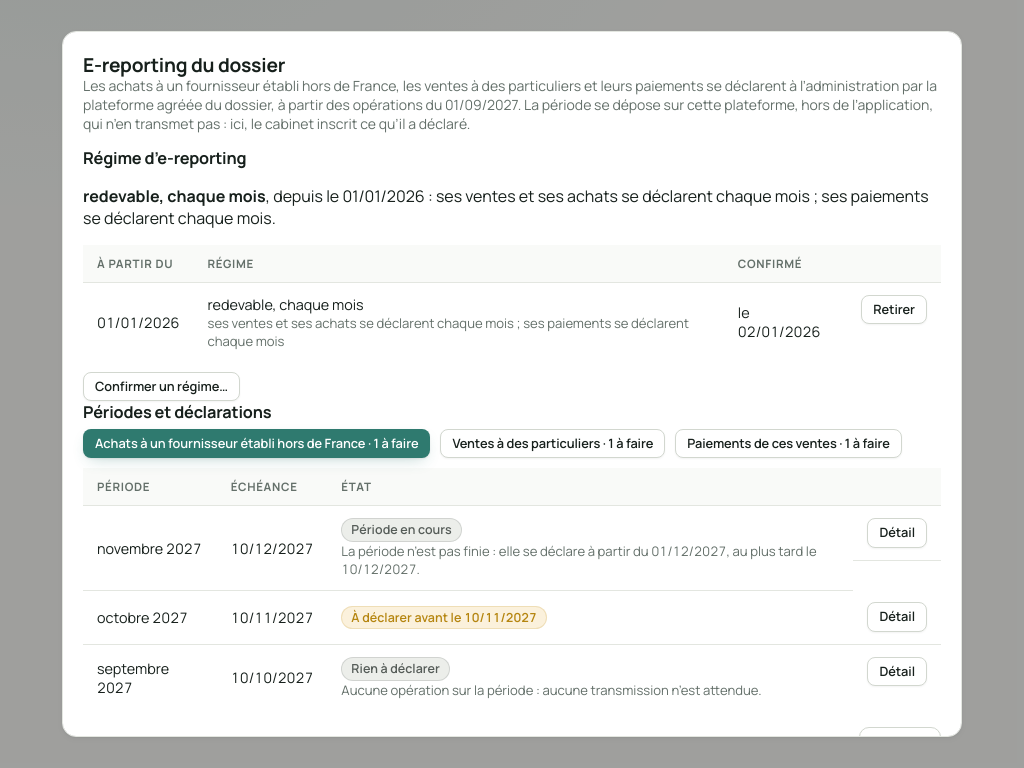
le régime › confirmer un régime › s’ouvre sur le statut de l’onglet TVA — SAUF le jour, que le cabinet saisit
Click the button "Confirmer un régime…". click: (162, 386)
box: [83,372,240,401]
(page scrolled)
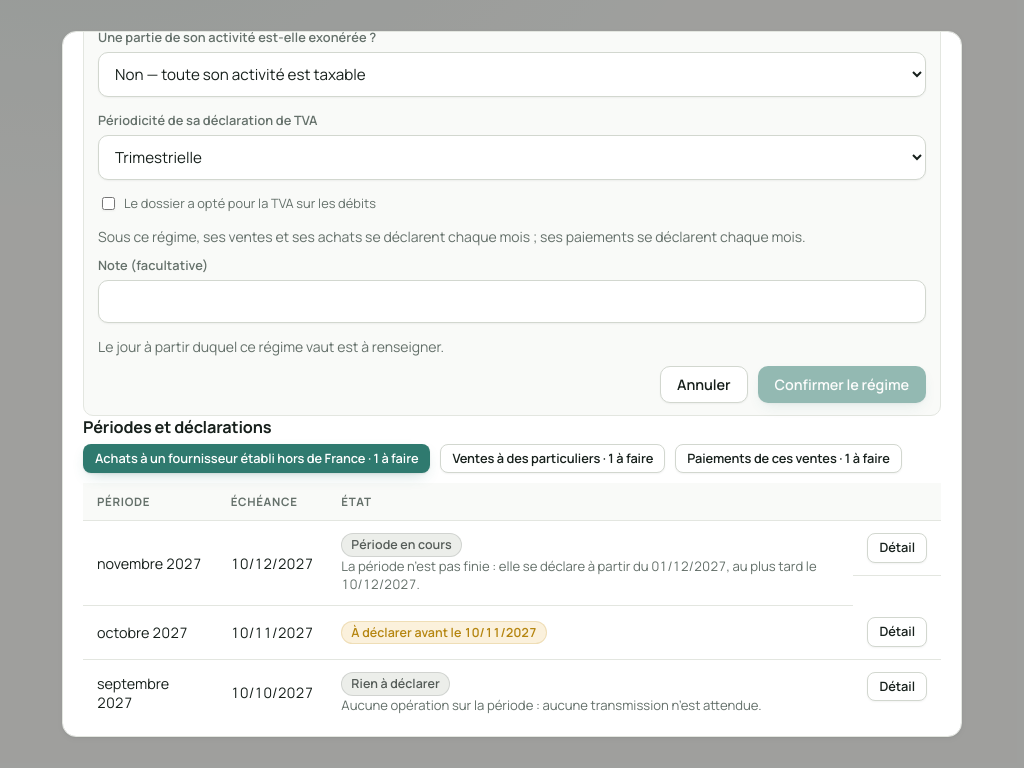
Expected: the dropdown labelled "Périodicité de sa déclaration de TVA" shows "Trimestrielle", [98,135,926,180]
Expected: the checkbox labelled "Le dossier a opté pour la TVA sur les débits" is not checked, [102,197,115,210]
Expected: the button "Confirmer le régime" is disabled, [758,366,926,403]
